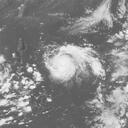cyclone: (48, 43, 94, 83)
